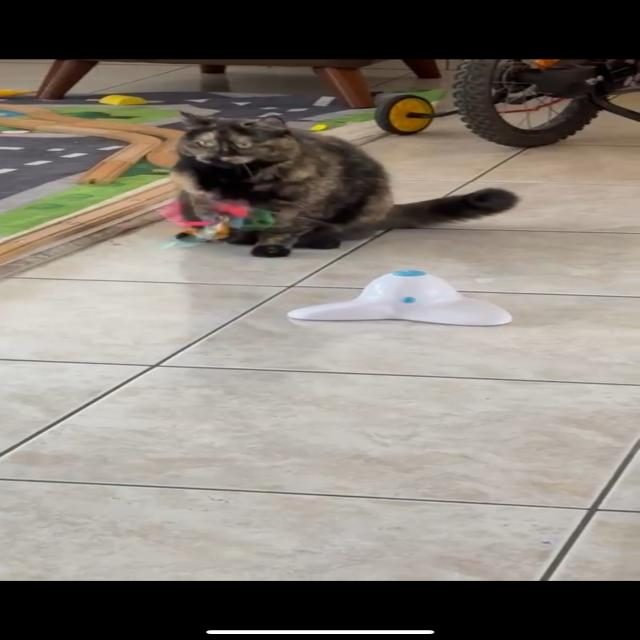authorized: (168, 110, 520, 258)
